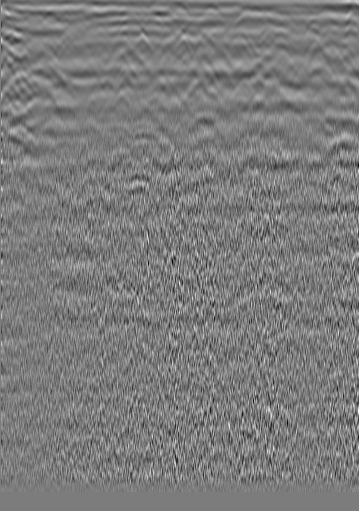가스: (118, 171, 156, 201)
상수: (300, 35, 320, 55)
오수: (36, 40, 56, 60)
우수: (175, 23, 195, 43)
